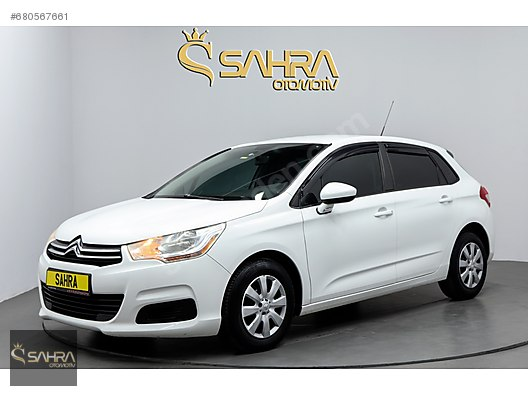citroen: (18, 129, 495, 357)
